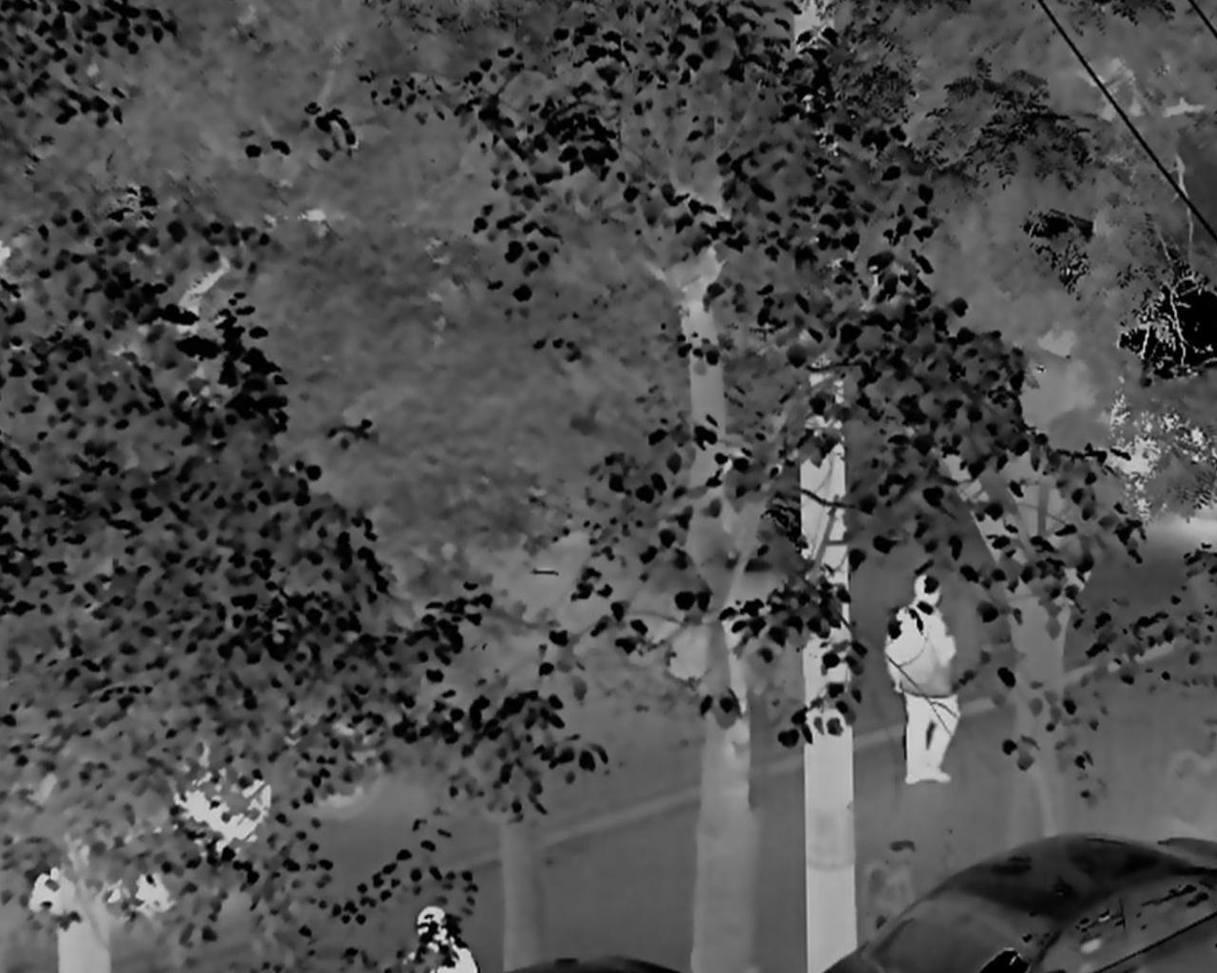person: (881, 571, 963, 788)
